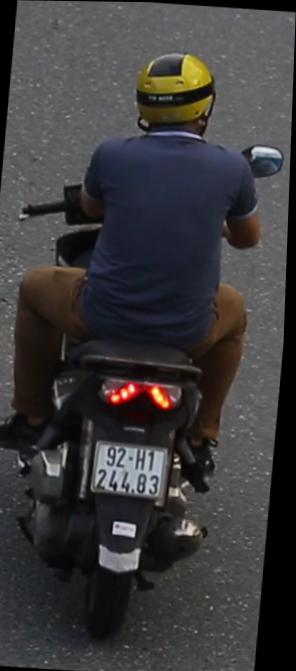LP: (91, 432, 178, 504)
helmet: (128, 43, 225, 148)
